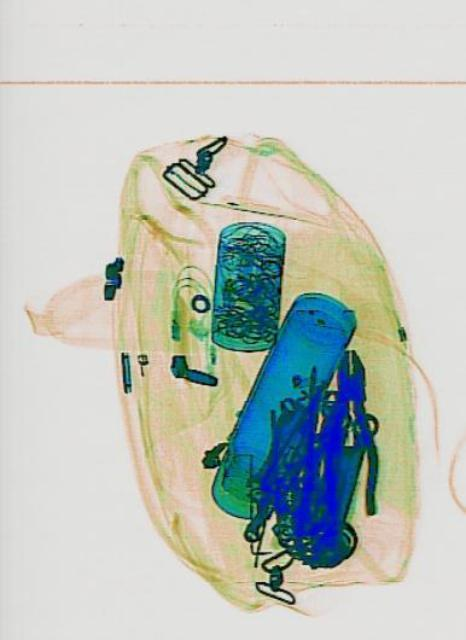Pliers: (317, 349, 376, 521)
